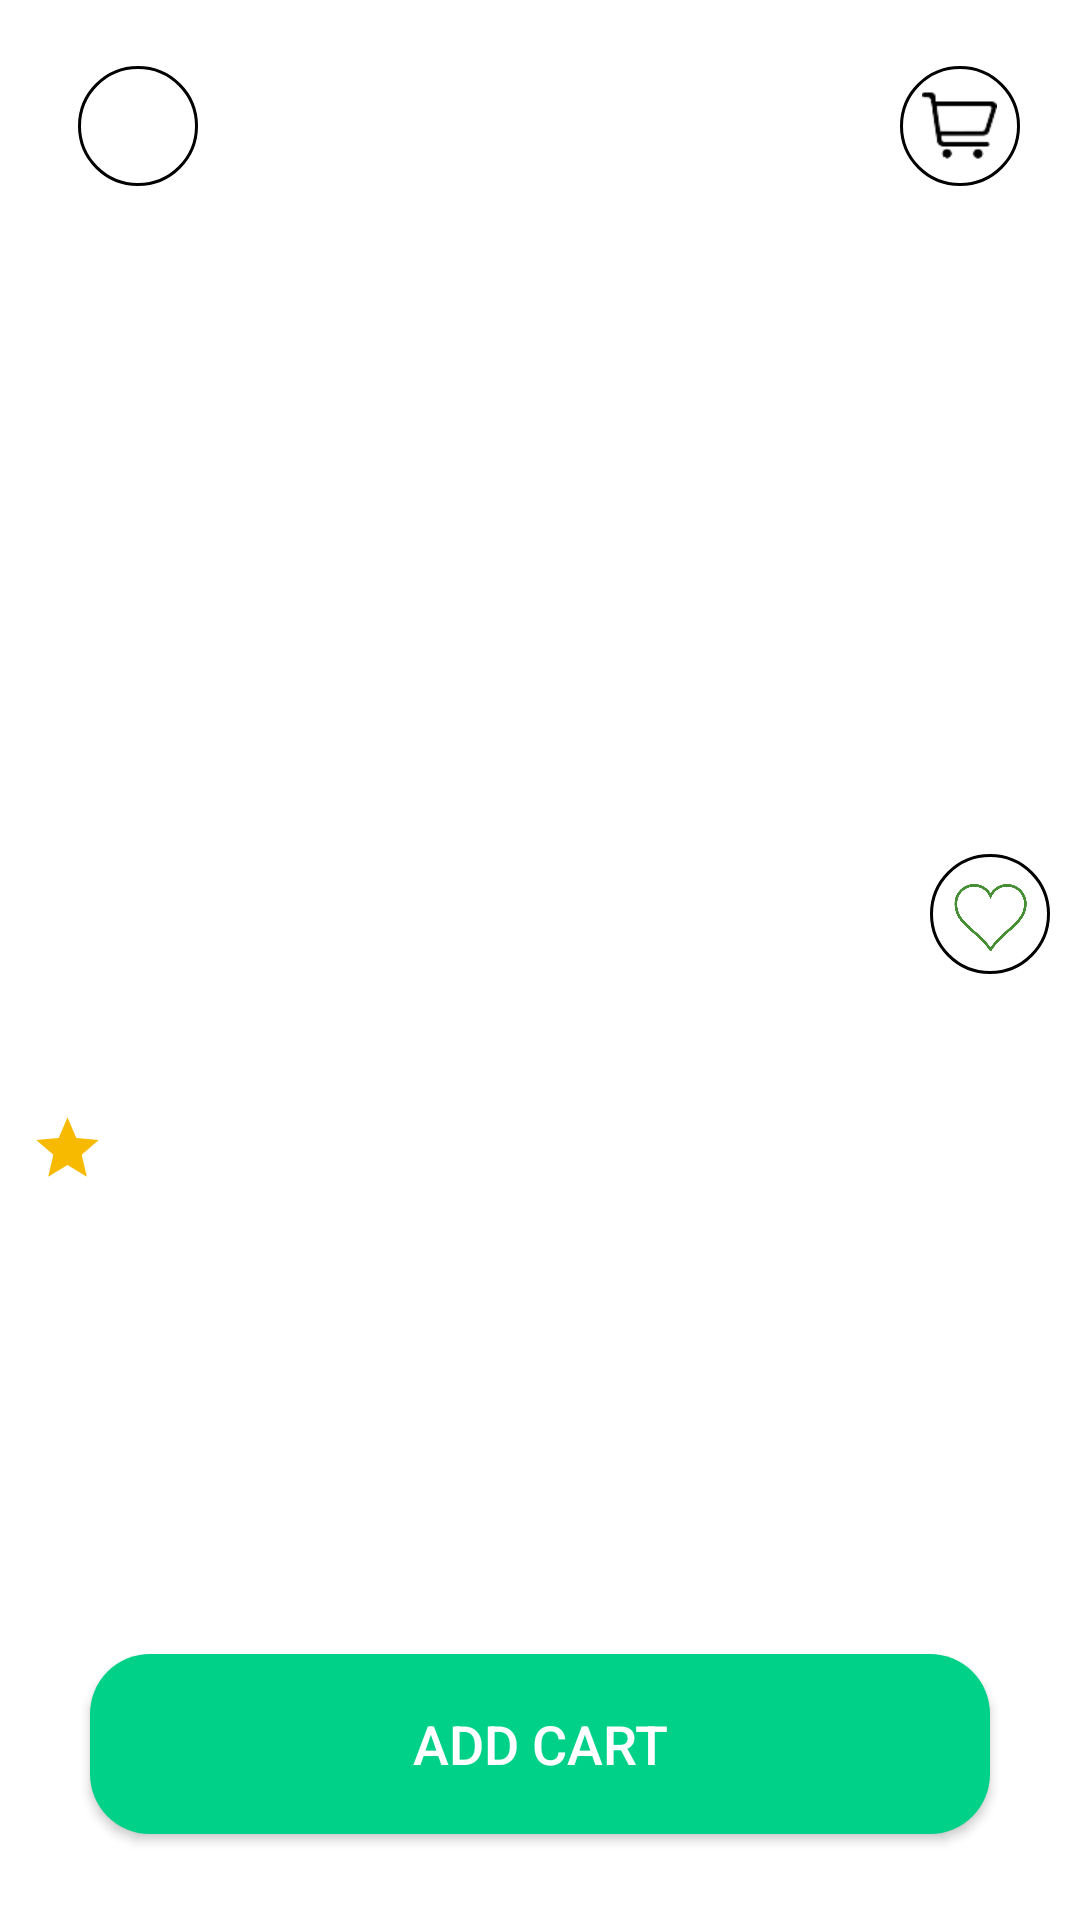

Icons on this 1080*1920 Android screen, each with its box as [x1, y1, x2, y2]:
heart unchecked: [954, 884, 1027, 951]
pic rating star: [36, 1117, 99, 1177]
